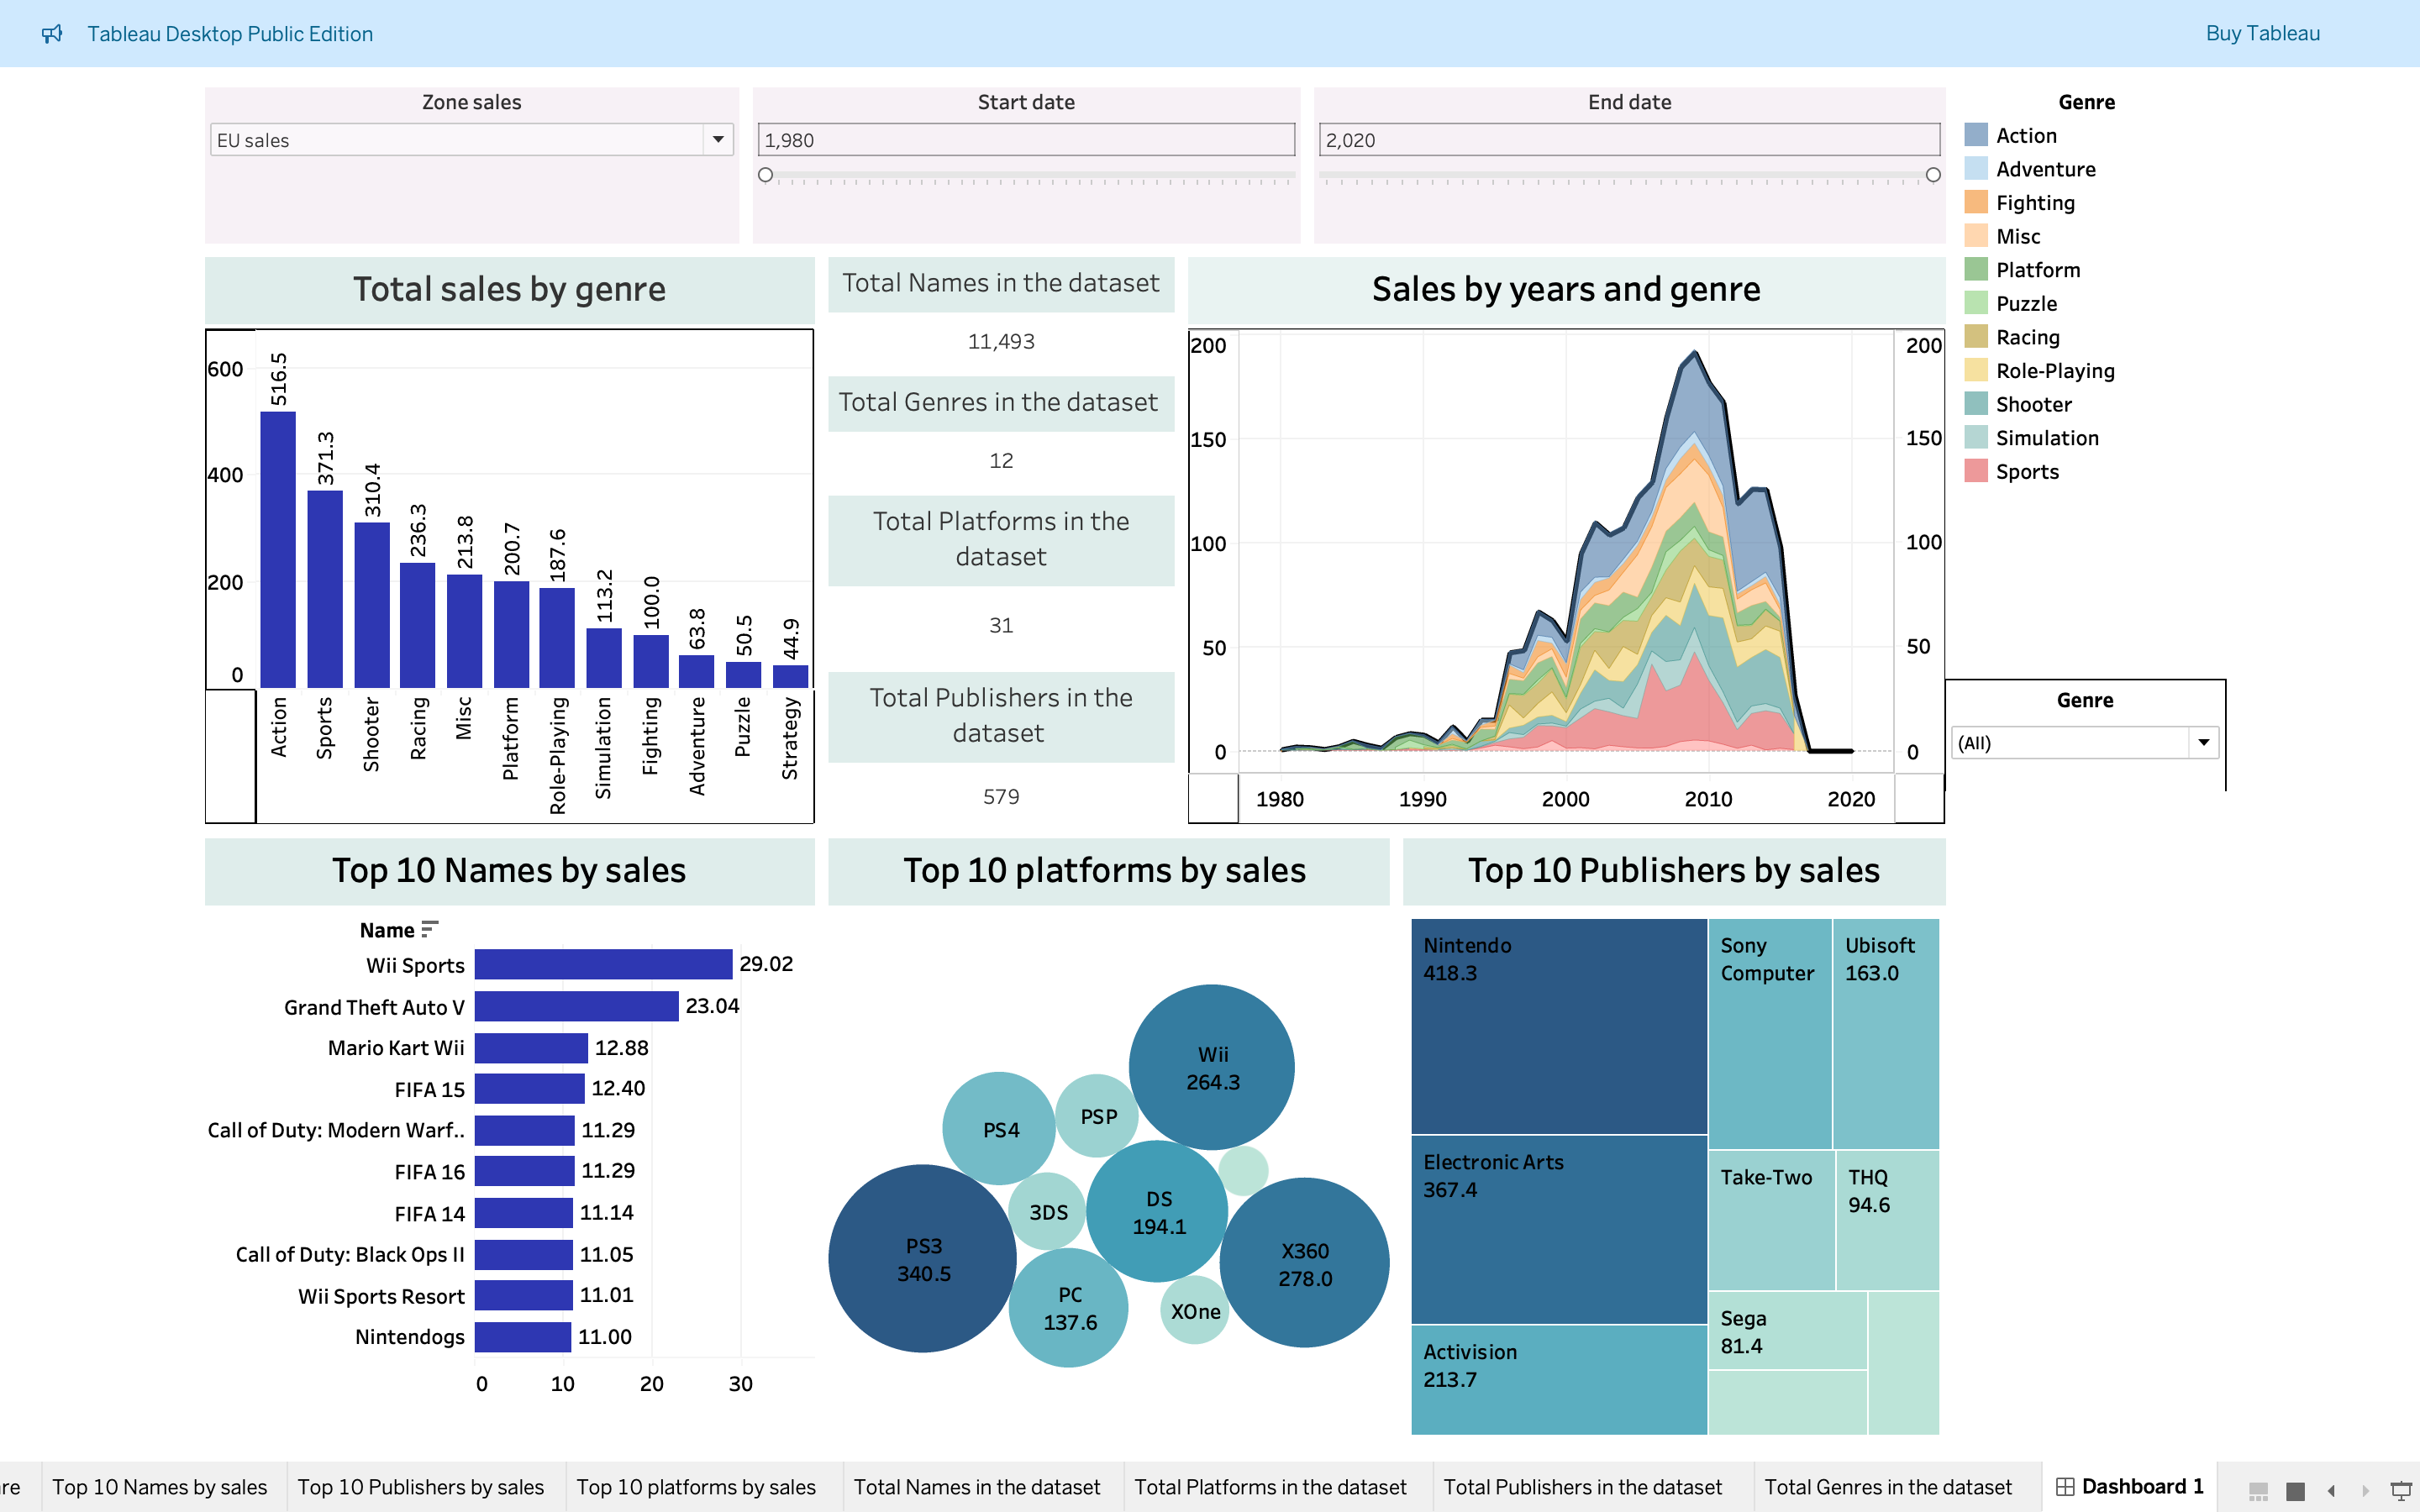

The dashboard page shown, as its layout file describes it:
{"tool":"tableau","page":{"name":"Dashboard 1","canvas":[1000,1000],"units":"permille","ordinal":0},"visuals":[{"type":"parameter","param":"[Parameters].[Parameter 1]","box":[6.6,12.5,267.2,120.5]},{"type":"parameter","param":"[Parameters].[Parameter 2]","box":[273.8,12.5,273.8,120.5]},{"type":"parameter","param":"[Parameters].[Parameter 3]","box":[547.5,12.5,314.8,120.5]},{"type":"legend","title":"Sales by years and genre","param":"[federated.0xiilhr0s3sox6190c7na1q5ohh1].[none:Genre:nk]","box":[862.3,12.5,131.2,386.5]},{"type":"worksheet","title":"Total sales by genre","mark":"Automatic","rows":["Calculation_3149564291507167232"],"cols":["Genre"],"box":[6.6,133,304.1,414.7]},{"type":"worksheet","title":"Total Names in the dataset","mark":"Automatic","box":[310.7,133,175.4,86.1]},{"type":"worksheet","title":"Sales by years and genre","mark":"Automatic","rows":["Calculation_3149564291507167232","Calculation_3149564291507167232"],"cols":["Year"],"box":[486.1,133,376.2,414.7]},{"type":"worksheet","title":"Total Genres in the dataset ","mark":"Automatic","box":[310.7,219.1,175.4,84.5]},{"type":"worksheet","title":"Total Platforms in the dataset","mark":"Automatic","box":[310.7,303.6,175.4,125.2]},{"type":"worksheet","title":"Total Publishers in the dataset ","mark":"Automatic","box":[310.7,428.8,175.4,118.9]},{"type":"filter","title":"Sales by years and genre","param":"[federated.0xiilhr0s3sox6190c7na1q5ohh1].[none:Genre:nk]","box":[858.2,438.2,137.7,81.4]},{"type":"worksheet","title":"Top 10 Names by sales","mark":"Automatic","rows":["Name"],"cols":["Calculation_3149564291507167232"],"box":[6.6,547.7,304.1,439.8]},{"type":"worksheet","title":"Top 10 platforms by sales ","mark":"Circle","box":[310.7,547.7,280.3,439.8]},{"type":"worksheet","title":"Top 10 Publishers by sales","mark":"Automatic","box":[591,547.7,271.3,439.8]}]}

Visuals, with their boxes on the dashboard's canvas, which has no fixed pixel size, in thousandths of its width and height (x1, y1, x2, y2). These are canvas units, not pixel positions in the 2420x1512 screenshot, which may show the page scaled, cropped or inside an application window:
parameter: Rect(7, 12, 274, 133)
parameter: Rect(274, 12, 548, 133)
parameter: Rect(548, 12, 862, 133)
"Sales by years and genre" legend: Rect(862, 12, 994, 399)
"Total sales by genre" worksheet: Rect(7, 133, 311, 548)
"Total Names in the dataset" worksheet: Rect(311, 133, 486, 219)
"Sales by years and genre" worksheet: Rect(486, 133, 862, 548)
"Total Genres in the dataset " worksheet: Rect(311, 219, 486, 304)
"Total Platforms in the dataset" worksheet: Rect(311, 304, 486, 429)
"Total Publishers in the dataset " worksheet: Rect(311, 429, 486, 548)
"Sales by years and genre" filter: Rect(858, 438, 996, 520)
"Top 10 Names by sales" worksheet: Rect(7, 548, 311, 988)
"Top 10 platforms by sales " worksheet (Circle marks): Rect(311, 548, 591, 988)
"Top 10 Publishers by sales" worksheet: Rect(591, 548, 862, 988)
